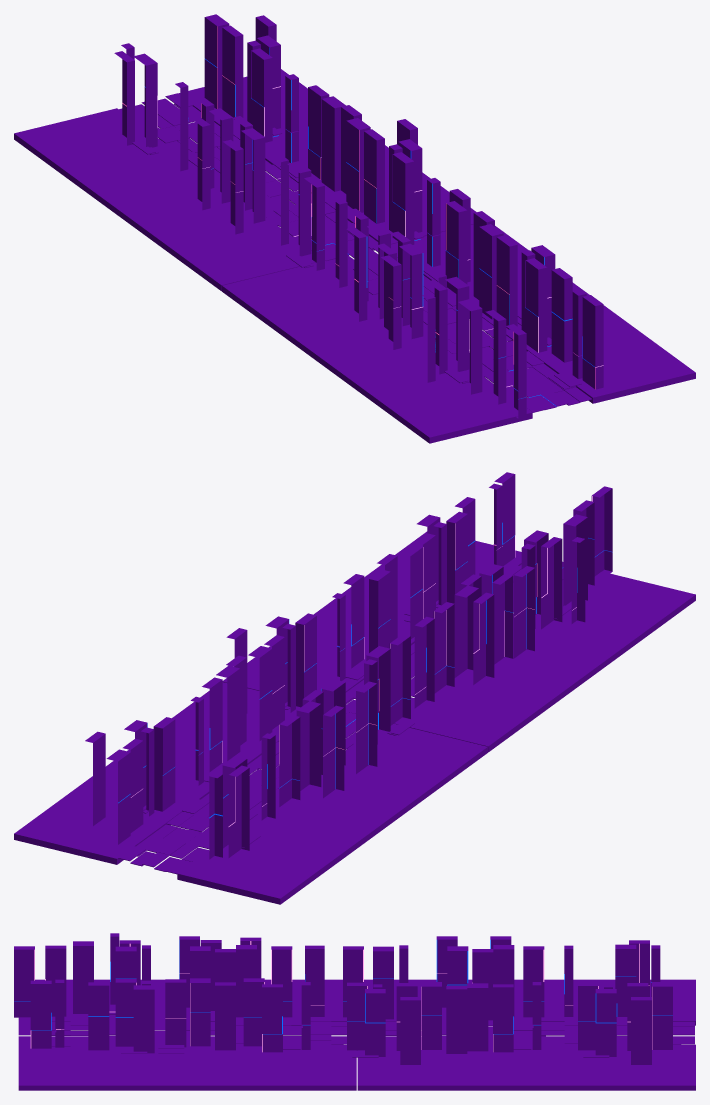
File: Cuber punk.glb
The picture shows the model from 3 angles, top to bottom: view 1: azimuth 30°, elevation 25°; view 2: azimuth 150°, elevation 25°; view 3: azimuth 270°, elevation 25°; orthographic projection. The views are drawn at different scales.
Visible parts, largest first — view 1: Cube.120, Cube.003, Cube.093, Cube.121, Cube.087, Cube.084, Cube.246, Cube.235, Cube.139, Cube.141, Cube.231, Cube.089 (+38 smaller); view 2: Cube.120, Cube.003, Cube.121, Cube.093, Cube.135, Cube.231, Cube.132, Cube.077, Cube.129, Cube.238, Cube.225, Cube.083 (+39 smaller); view 3: Cube.093, Cube.121, Cube.120, Cube.003, Cube.148, Cube.230, Cube.246, Cube.084, Cube.143, Cube.086, Cube.090, Cube.142 (+44 smaller).
Part boxes in pixels (bbox=[...]): Cube.120: bbox=[14, 108, 315, 291]; Cube.003: bbox=[222, 260, 532, 443]; Cube.093: bbox=[391, 224, 695, 403]; Cube.121: bbox=[178, 69, 476, 244]; Cube.087: bbox=[525, 258, 547, 352]; Cube.084: bbox=[582, 295, 603, 389]; Cube.246: bbox=[551, 268, 572, 362]; Cube.235: bbox=[222, 25, 243, 119]; Cube.139: bbox=[392, 152, 414, 244]; Cube.141: bbox=[364, 129, 384, 223]; Cube.231: bbox=[251, 48, 272, 142]; Cube.089: bbox=[496, 235, 517, 329]; Cube.120: bbox=[177, 724, 487, 904]; Cube.003: bbox=[394, 571, 695, 752]; Cube.121: bbox=[14, 682, 300, 864]; Cube.093: bbox=[222, 531, 521, 692]; Cube.135: bbox=[296, 701, 321, 796]; Cube.231: bbox=[153, 717, 175, 811]; Cube.132: bbox=[356, 681, 377, 776]; Cube.077: bbox=[541, 537, 562, 631]; Cube.129: bbox=[473, 592, 494, 687]; Cube.238: bbox=[323, 705, 344, 800]; Cube.225: bbox=[228, 765, 249, 860]; Cube.083: bbox=[454, 585, 478, 680]; Cube.093: bbox=[18, 1044, 356, 1090]; Cube.121: bbox=[357, 1044, 695, 1090]; Cube.120: bbox=[364, 979, 695, 1025]; Cube.003: bbox=[18, 979, 346, 1025]; Cube.148: bbox=[467, 983, 488, 1055]; Cube.230: bbox=[595, 989, 616, 1061]; Cube.246: bbox=[88, 982, 109, 1053]; Cube.084: bbox=[30, 980, 51, 1051]; Cube.143: bbox=[446, 986, 467, 1057]; Cube.086: bbox=[133, 985, 154, 1057]; Cube.090: bbox=[190, 978, 210, 1050]; Cube.142: bbox=[421, 982, 441, 1054].
Bounding box in the file's own units: 78.37 × 25.21 × 213.
